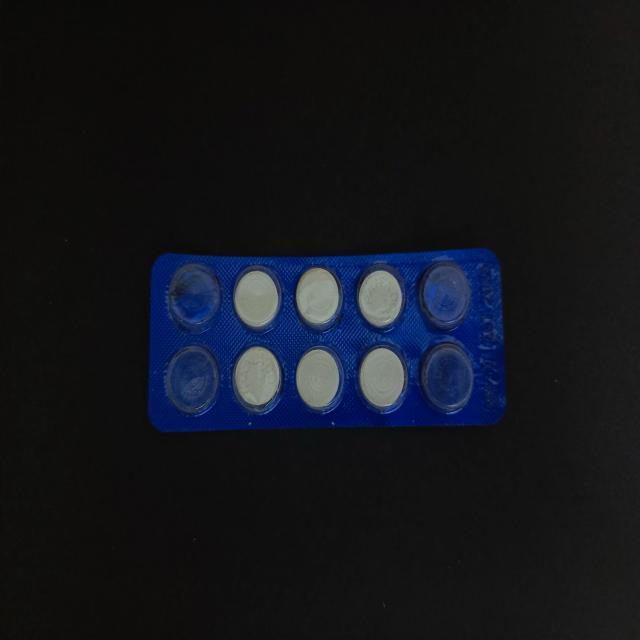defect: (416, 338, 476, 416), (163, 342, 222, 420), (165, 260, 225, 334), (415, 258, 473, 334)
